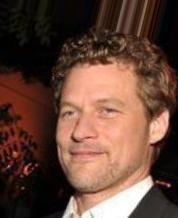face: (57, 99, 123, 165)
